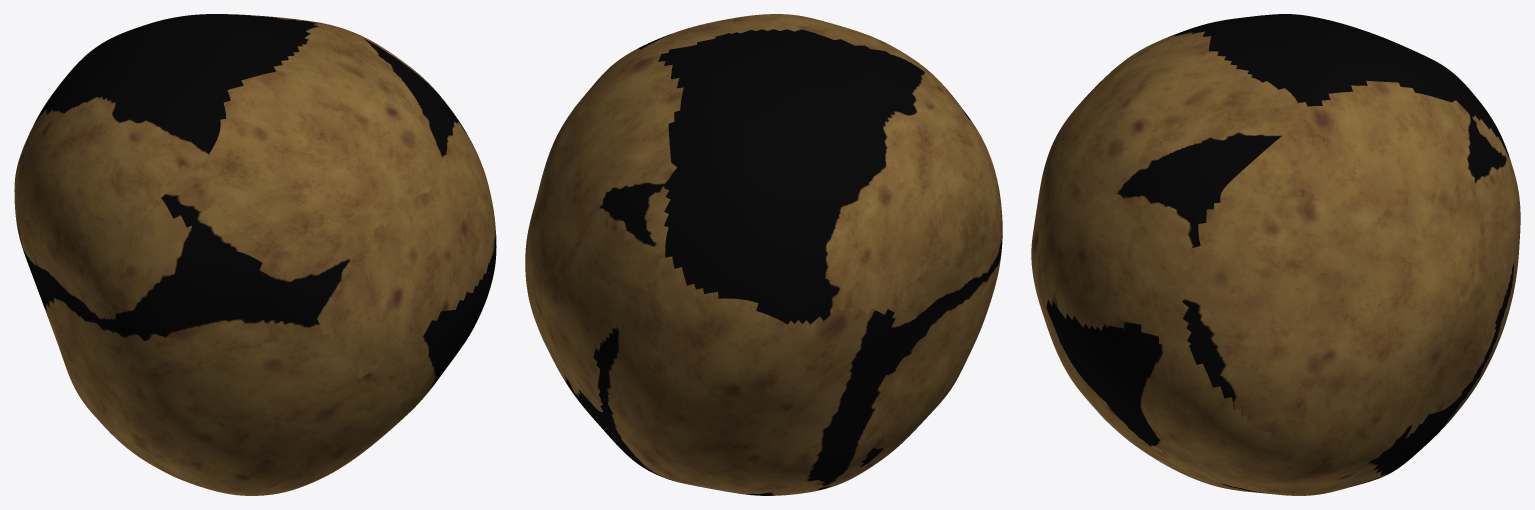
The picture shows the model from 3 angles, left to right: view 1: azimuth 30°, elevation 25°; view 2: azimuth 150°, elevation 25°; view 3: azimuth 270°, elevation 25°; orthographic projection.
Visible parts, largest first — view 1: original_ico.014; view 2: original_ico.014; view 3: original_ico.014.
Part boxes in pixels (x1,y1,x2,y2): original_ico.014: (14, 14, 496, 495); original_ico.014: (525, 14, 1002, 495); original_ico.014: (1031, 14, 1520, 495).
Bounding box in the file's own units: 2.76 × 2.72 × 2.8.
